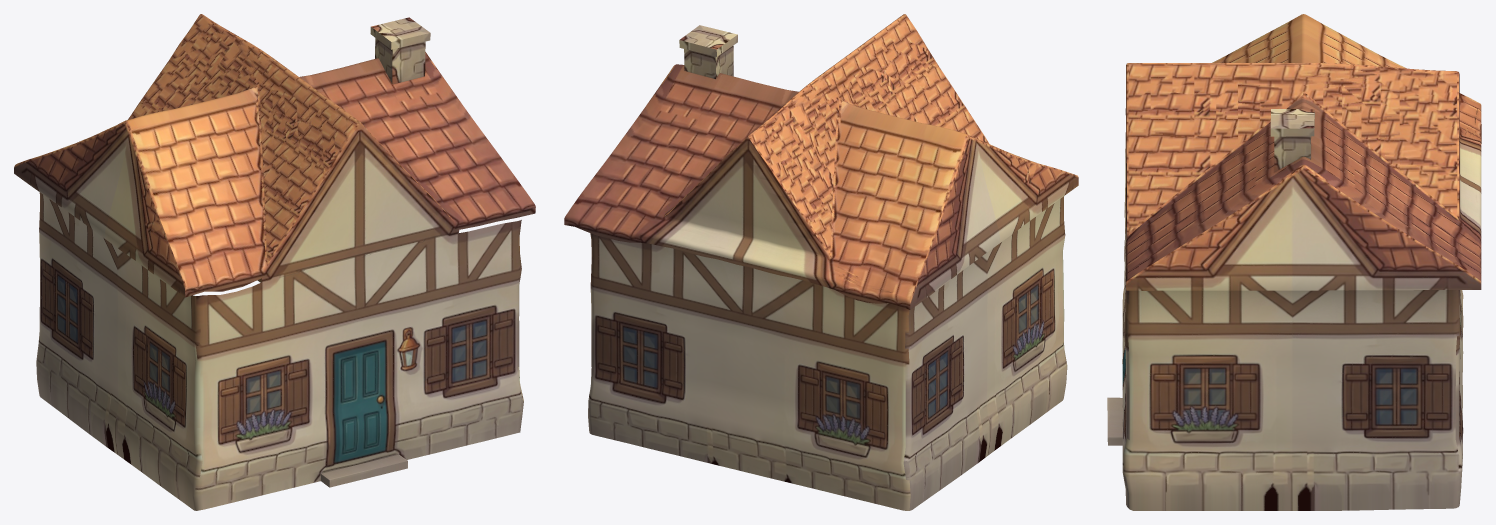
The model's file is havre_maison_4.glb.
The picture shows the model from 3 angles, left to right: view 1: azimuth 30°, elevation 25°; view 2: azimuth 150°, elevation 25°; view 3: azimuth 270°, elevation 25°; orthographic projection. The views are drawn at different scales.
Parts seen in each view (by area): view 1: maison; view 2: maison; view 3: maison.
Boxes of the visible parts, x1,y1,x2,y2 form: maison: (14,14,535,510); maison: (564,14,1078,510); maison: (1107,14,1481,510).
Size of the model in its own units: 5.82 by 5.64 by 5.16.
Materials: 1 (1 with a texture image).
